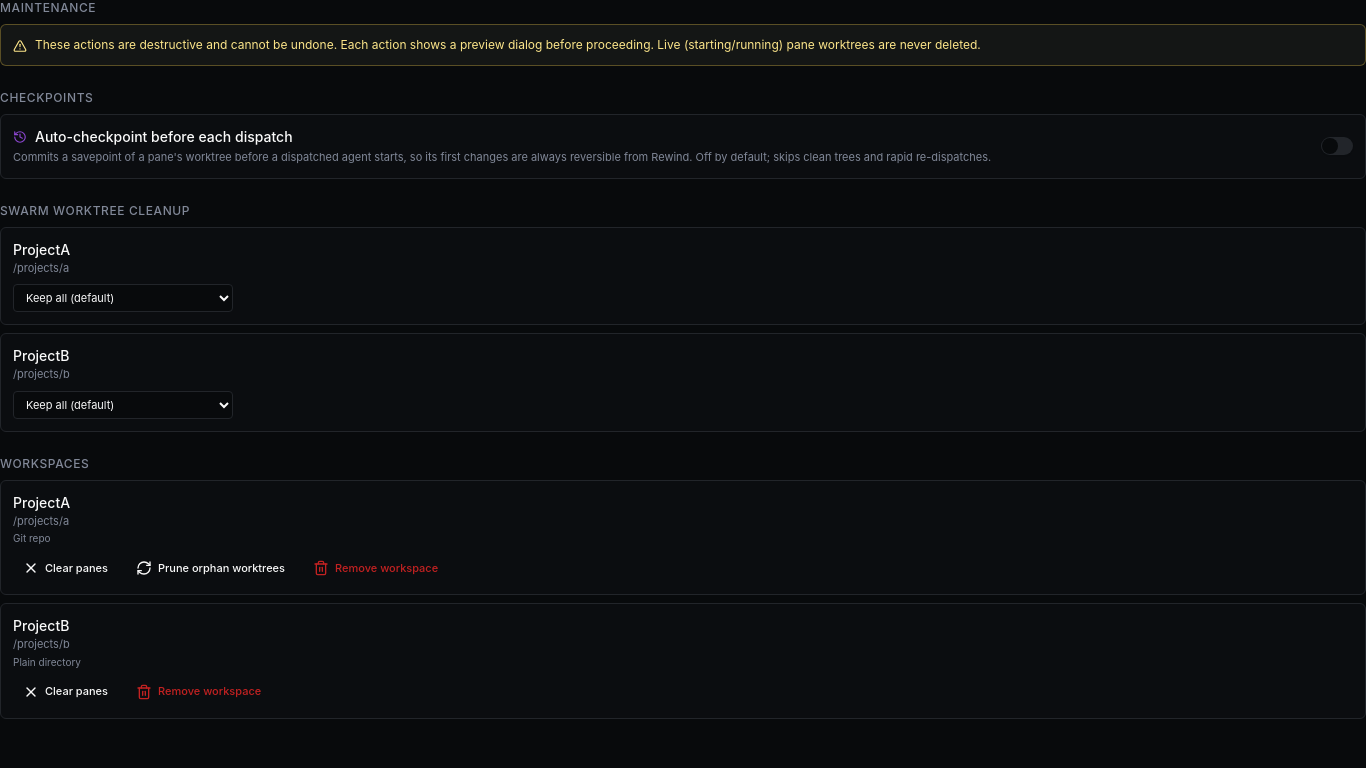
Test: MaintenanceTab — clear panes › shows live pane count in clear-panes confirm
Click the button with test id "maintenance-clear-panes-ws-1": (66, 568) top-left (13, 554), bottom-right (118, 582)
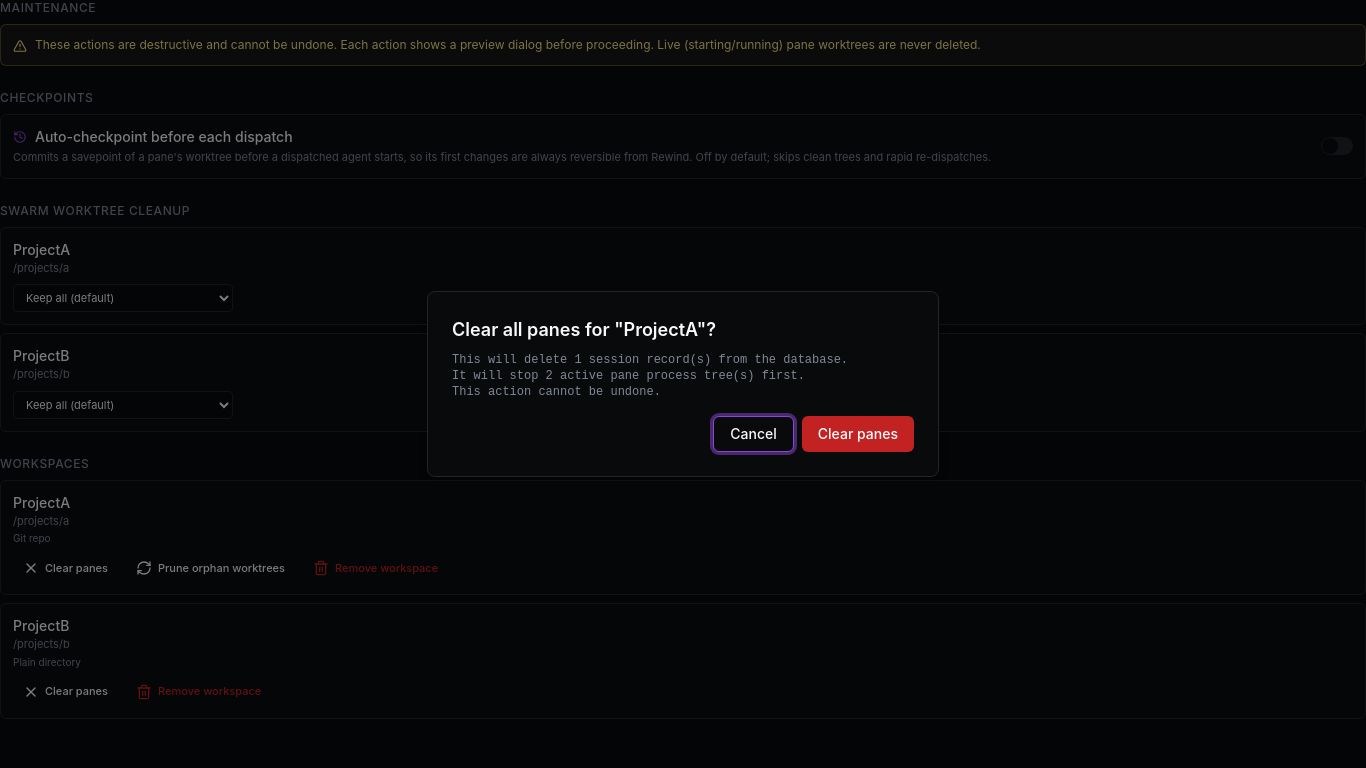
Now the dialog shows "1 session record(s)", box top-left (452, 353), bottom-right (848, 399)
Now the dialog shows "2 active", box top-left (452, 353), bottom-right (848, 399)
Now the dialog shows "will stop", box top-left (452, 353), bottom-right (848, 399)
